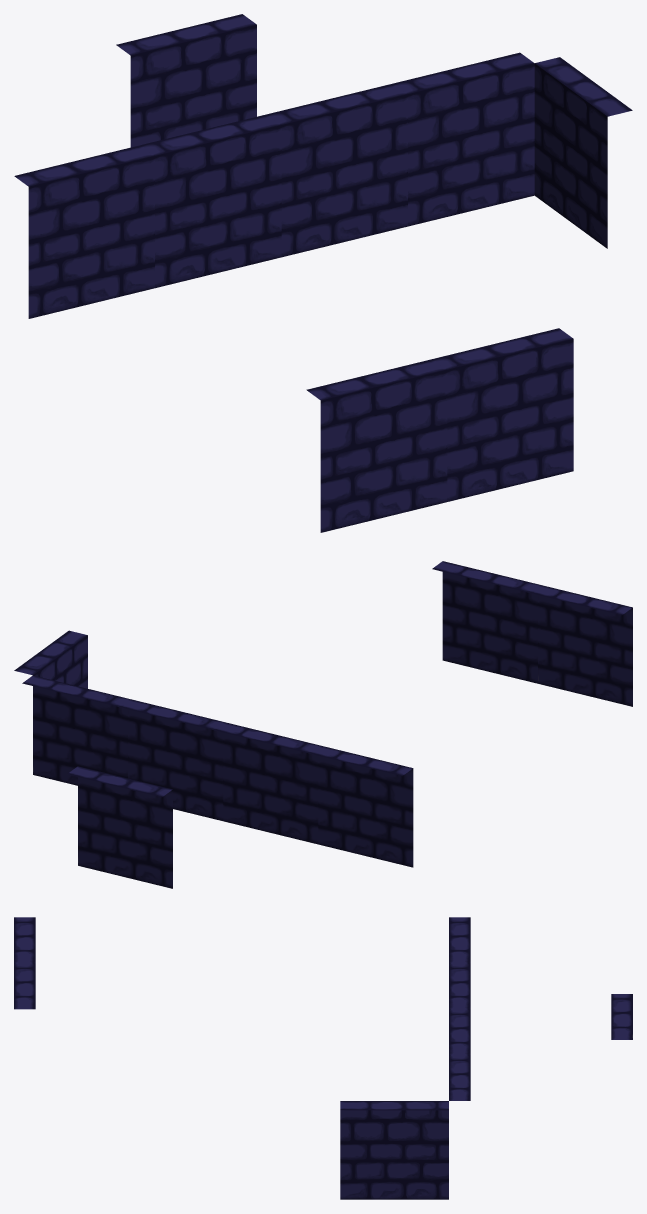
The model's file is Wall_Default_Middle_Texturized.fbx.
The picture shows the model from 3 angles, top to bottom: view 1: azimuth 30°, elevation 25°; view 2: azimuth 150°, elevation 25°; view 3: azimuth 270°, elevation 25°; orthographic projection. The views are drawn at different scales.
Visible parts, largest first — view 1: Wall_Default_M51, Wall_Default_M40, Wall_Default_M41, Wall_Default_M42, Wall_Default_M43, Wall_Default_M50, Wall_Default_M39, Wall_Default_M44; view 2: Wall_Default_M40, Wall_Default_M50, Wall_Default_M41, Wall_Default_M39, Wall_Default_M51, Wall_Default_M42, Wall_Default_M43, Wall_Default_M44; view 3: Wall_Default_M44, Wall_Default_M40, Wall_Default_M41, Wall_Default_M42, Wall_Default_M50, Wall_Default_M51, Wall_Default_M39, Wall_Default_M43.
Boxes of the visible parts, x1,y1,x2,y2 form: Wall_Default_M51: (306,359,447,532); Wall_Default_M40: (14,145,154,318); Wall_Default_M41: (141,114,281,288); Wall_Default_M42: (267,83,407,257); Wall_Default_M43: (394,52,534,226); Wall_Default_M50: (433,328,573,501); Wall_Default_M39: (116,14,256,147); Wall_Default_M44: (534,57,632,248); Wall_Default_M40: (308,745,413,867); Wall_Default_M50: (432,561,537,683); Wall_Default_M41: (212,722,318,844); Wall_Default_M39: (67,766,172,888); Wall_Default_M51: (527,584,632,706); Wall_Default_M42: (117,698,223,820); Wall_Default_M43: (22,675,127,785); Wall_Default_M44: (14,630,87,688); Wall_Default_M44: (340,1101,448,1199); Wall_Default_M40: (449,917,470,963); Wall_Default_M41: (449,963,470,1009); Wall_Default_M42: (449,1009,470,1055); Wall_Default_M50: (14,963,35,1009); Wall_Default_M51: (14,917,35,963); Wall_Default_M39: (611,994,632,1039); Wall_Default_M43: (449,1055,470,1100).
Bounding box in the file's own units: 21 × 5 × 28.45.
